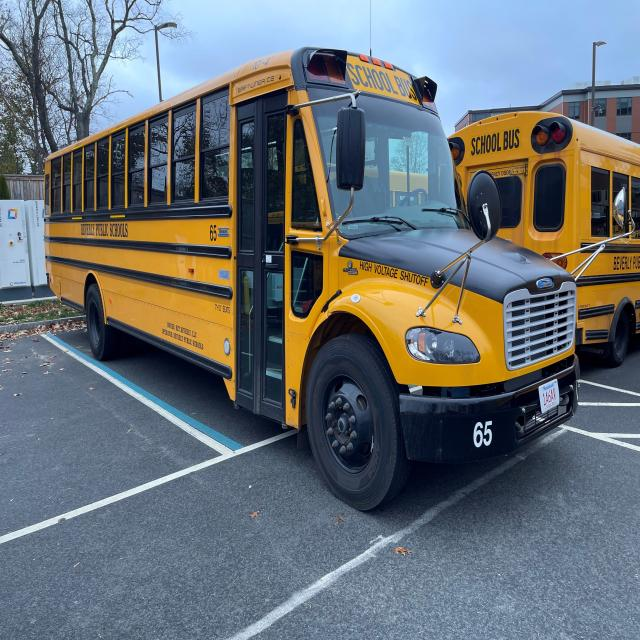bus: (17, 5, 589, 512), (451, 92, 640, 371)
